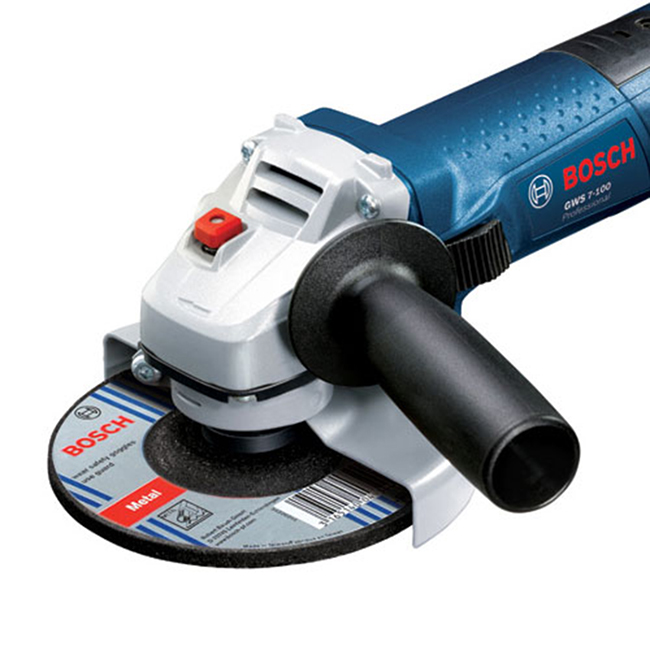Bosch: (554, 132, 641, 194), (57, 409, 142, 463)
